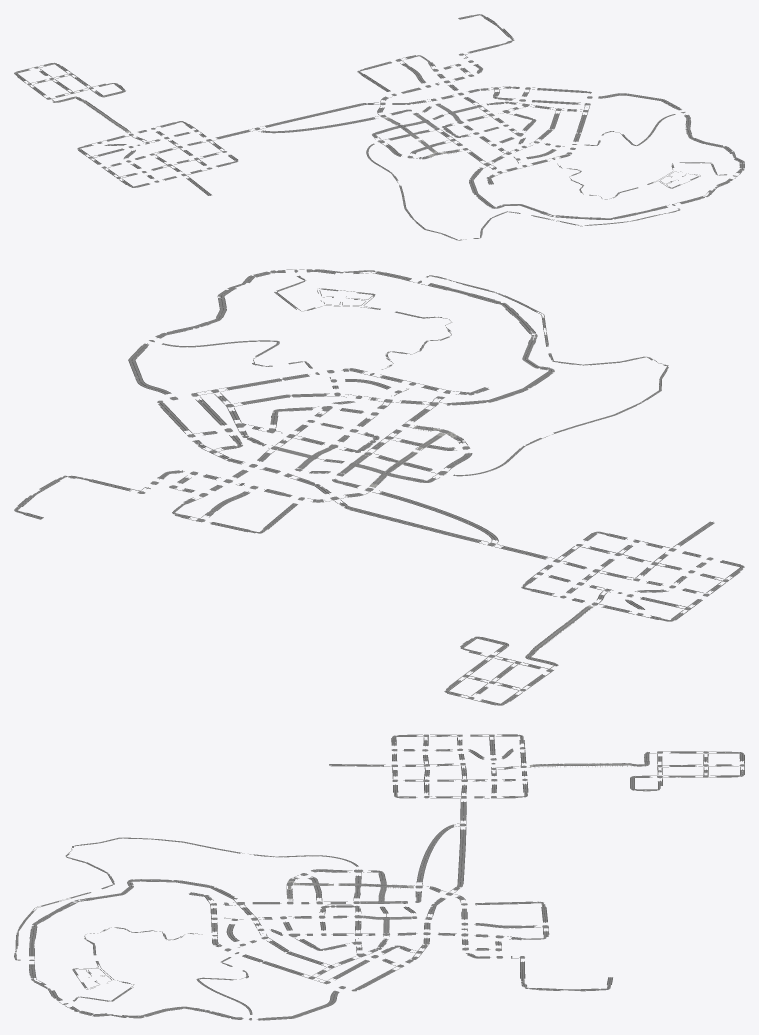
The model's file is infrastruttura-urbana.glb.
3 renders of one model, top to bottom at view 1: azimuth 30°, elevation 25°; view 2: azimuth 150°, elevation 25°; view 3: azimuth 270°, elevation 25°, orthographic. The views are drawn at different scales.
Visible parts, largest first — view 1: Plane.001; view 2: Plane.001; view 3: Plane.001.
Boxes of the visible parts, bbox=[...] form: Plane.001: bbox=[14, 14, 744, 240]; Plane.001: bbox=[14, 269, 744, 705]; Plane.001: bbox=[14, 734, 744, 1020].
Bounding box in the file's own units: 2664 × 16.46 × 2876.
9 materials, 9 textured.
